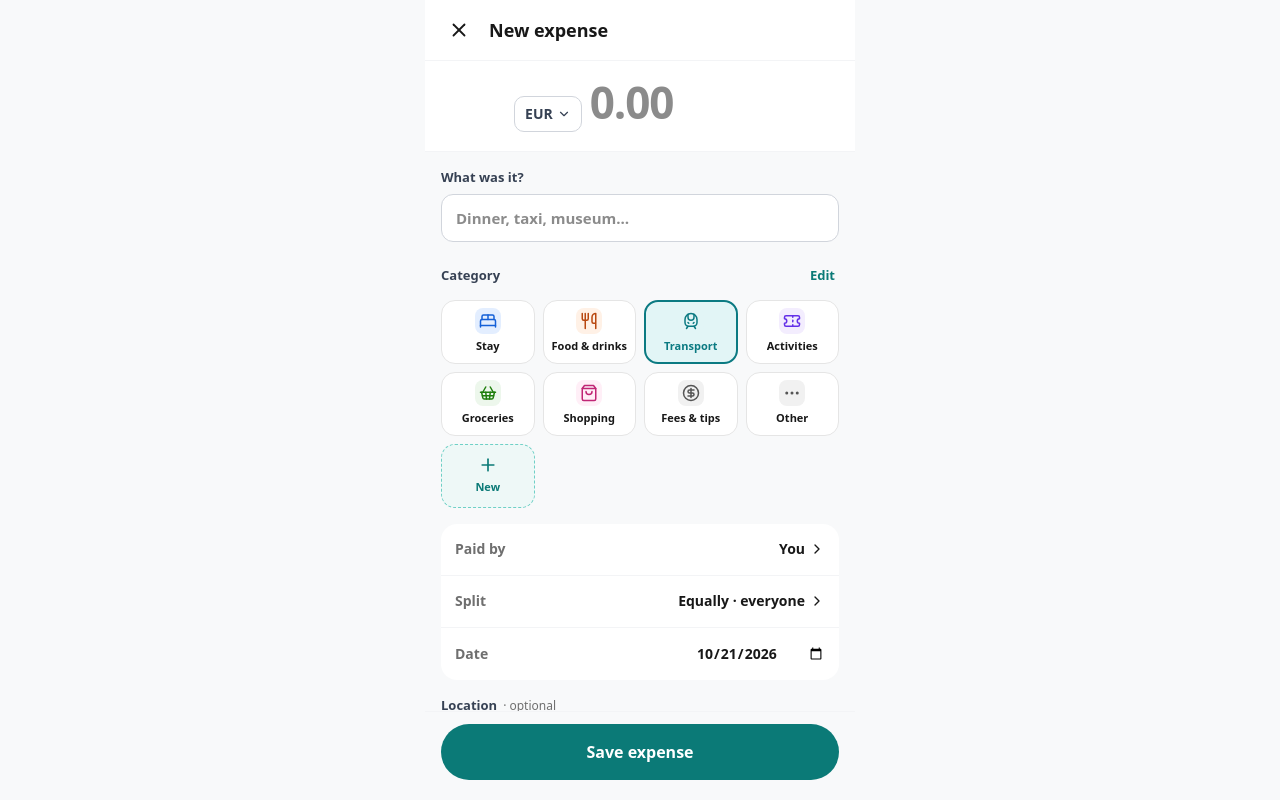
Scenario: amount and converted line › respects 0 decimals for JPY
Click the button with aria-label "Change currency" at (548, 114), box [514,96,582,132]
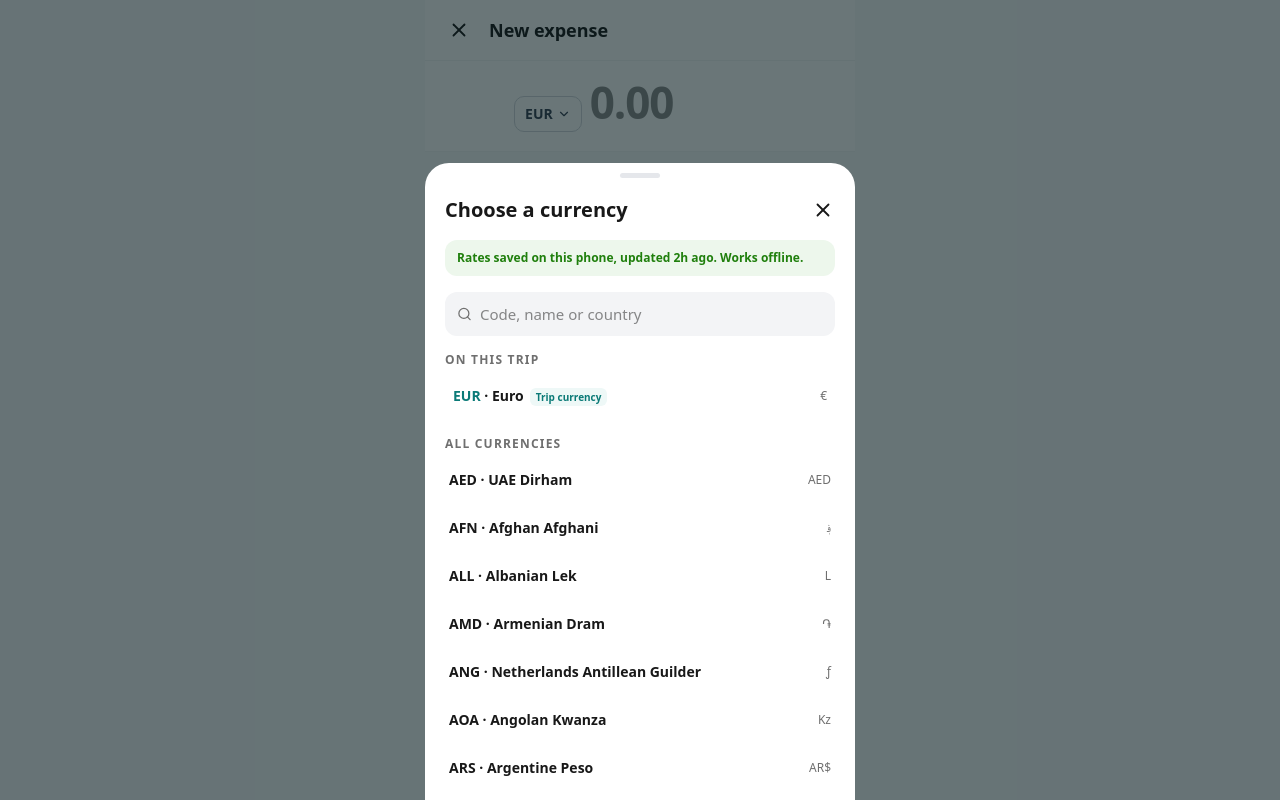
Type "Japan" into the search field named "Search currencies" at (652, 314), box [480,303,823,325]
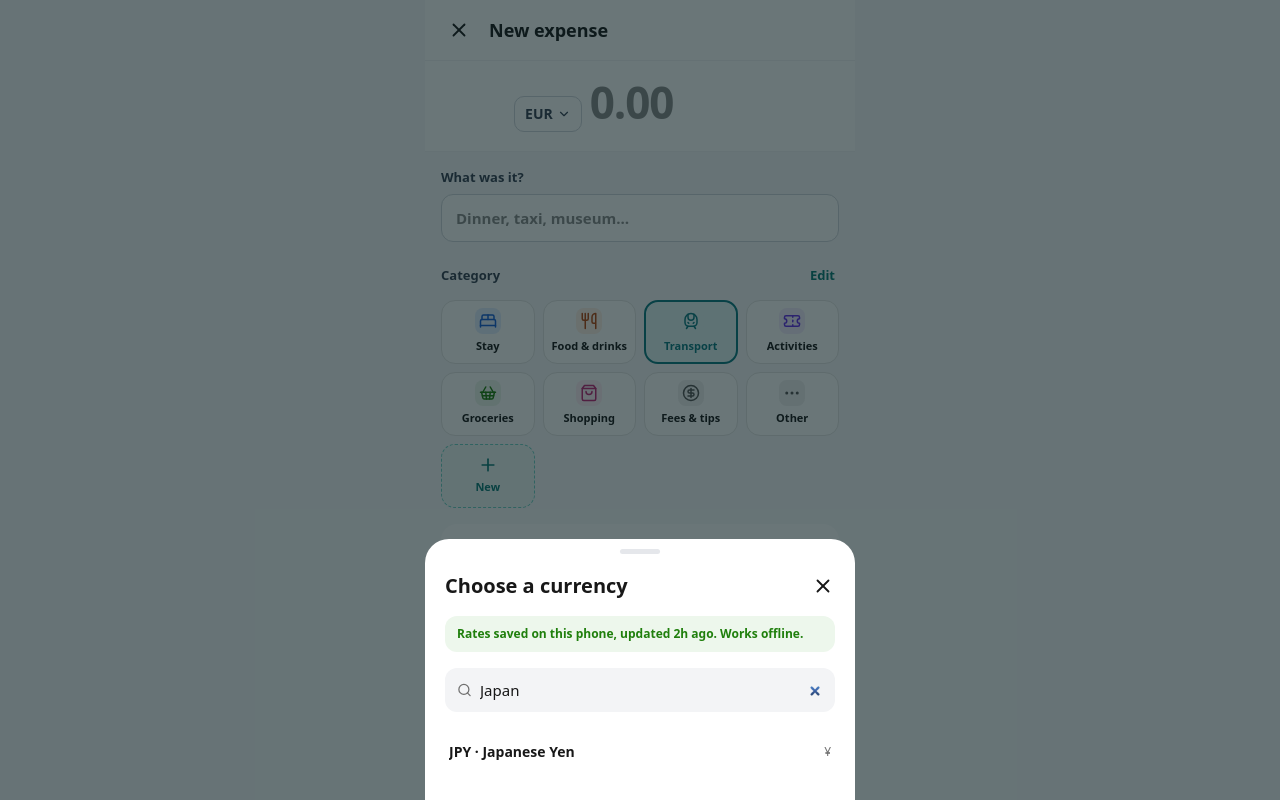
Click the button "JPY · Japanese Yen ¥" at (529, 752), box [441,728,839,776]
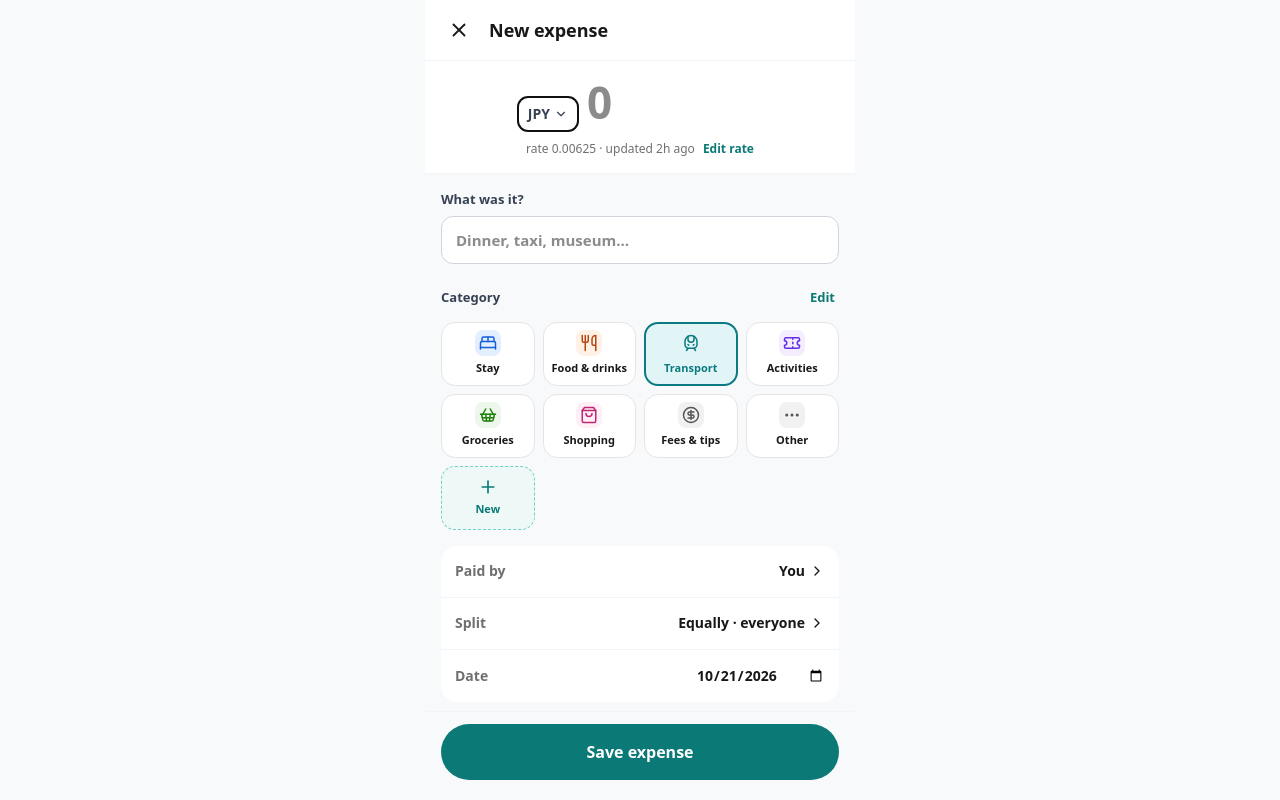
Type "1200.55" into the field named "Amount" at (675, 102), box [587,69,763,135]
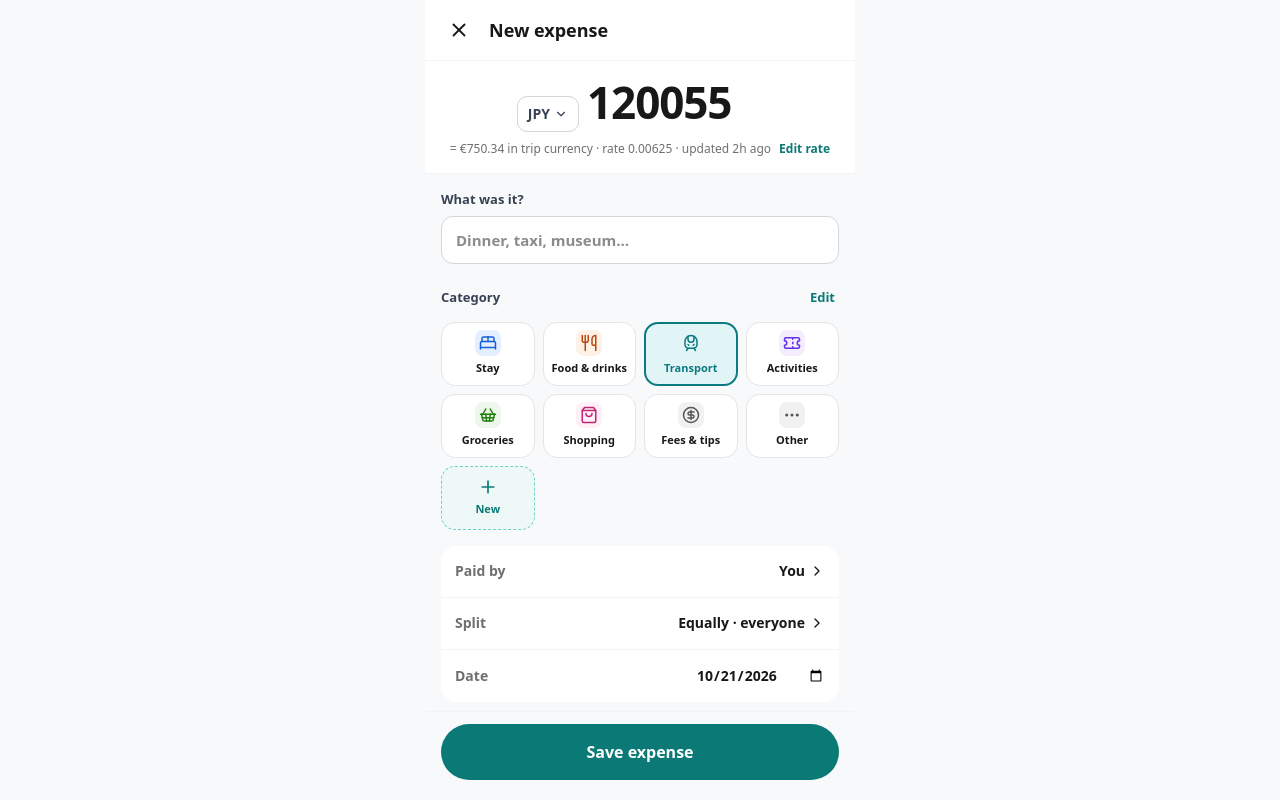
Expected: the field named "Amount" holds "120055", [587,69,763,135]
